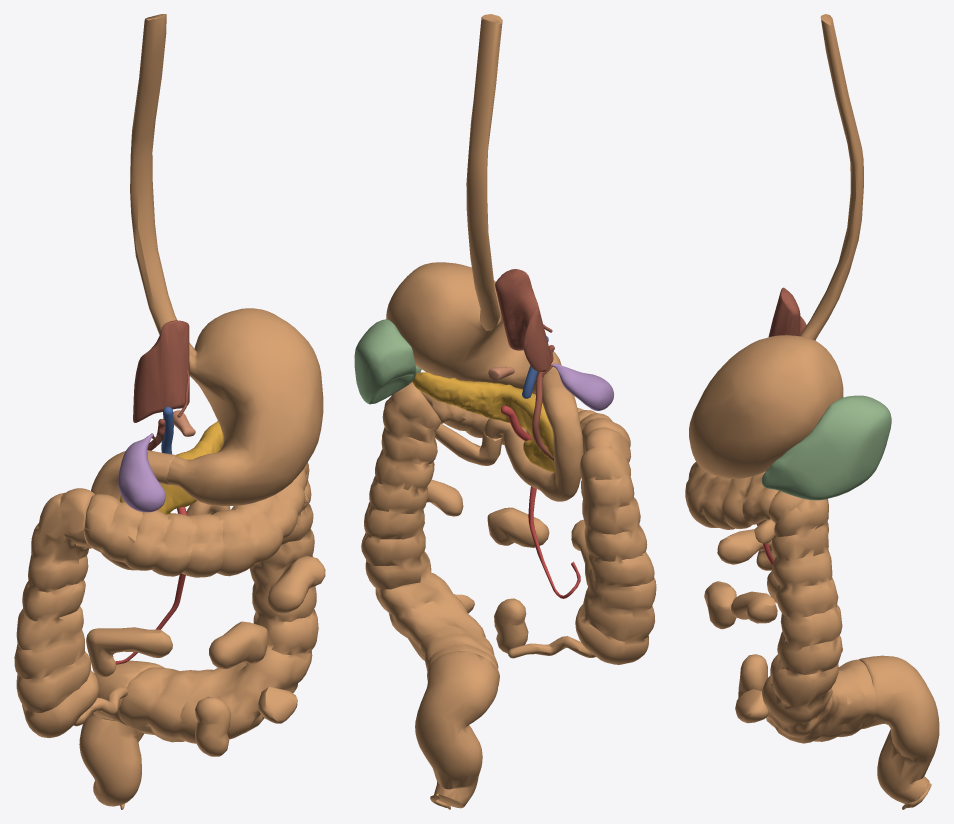
Rendered from gastro.glb.
3 views of the same model, side by side, from view 1: azimuth 30°, elevation 25°; view 2: azimuth 150°, elevation 25°; view 3: azimuth 270°, elevation 25° (orthographic). The views are drawn at different scales.
Parts seen in each view (by area): view 1: Stomach, Ascending colon, Descending colon, Transverse colon, Esophagus, Rectum, Caudate lobe of liver, Proximal part of ileum, Gallbladder, Distal part of jejunum, Duodenum, Middle part of jejunum (+5 smaller); view 2: Descending colon, Ascending colon, Stomach, Rectum, Esophagus, Duodenum, Spleen, Caudate lobe of liver, Pancreas, Parenchyma of pancreas, Transverse colon, Distal part of jejunum (+7 smaller); view 3: Descending colon, Stomach, Spleen, Rectum, Esophagus, Transverse colon, Proximal part of ileum, Middle part of jejunum, Distal part of jejunum, Caudate lobe of liver, Distal part of ileum, Middle part of ileum.
Boxes of the visible parts, x1,y1,x2,y2 form: Stomach: (166,308,323,505); Ascending colon: (14,488,98,738); Descending colon: (119,462,318,743); Transverse colon: (84,463,307,577); Esophagus: (130,14,196,357); Rectum: (79,660,164,806); Caudate lobe of liver: (133,320,189,422); Proximal part of ileum: (86,627,172,676); Gallbladder: (118,433,165,512); Distal part of jejunum: (209,621,267,668); Duodenum: (91,450,230,570); Middle part of jejunum: (267,555,325,613); Descending colon: (361,382,499,685); Ascending colon: (575,427,656,664); Stomach: (386,262,561,394); Rectum: (415,651,498,808); Esophagus: (466,14,502,330); Duodenum: (483,372,583,501); Spleen: (354,319,421,404); Caudate lobe of liver: (495,269,551,371); Pancreas: (412,372,554,472); Parenchyma of pancreas: (414,372,554,472); Transverse colon: (420,391,630,453); Distal part of jejunum: (487,507,549,547); Descending colon: (762,491,876,743); Stomach: (689,335,843,478); Spleen: (761,395,891,500); Rectum: (859,655,939,804); Esophagus: (799,14,863,340); Transverse colon: (685,462,779,529); Proximal part of ileum: (717,529,775,570); Middle part of jejunum: (731,591,777,623); Distal part of jejunum: (704,581,736,629); Caudate lobe of liver: (768,287,806,336); Distal part of ileum: (738,654,767,698); Middle part of ileum: (735,689,768,723).
Bounding box in the file's own units: 0.7665 × 2 × 0.583.
